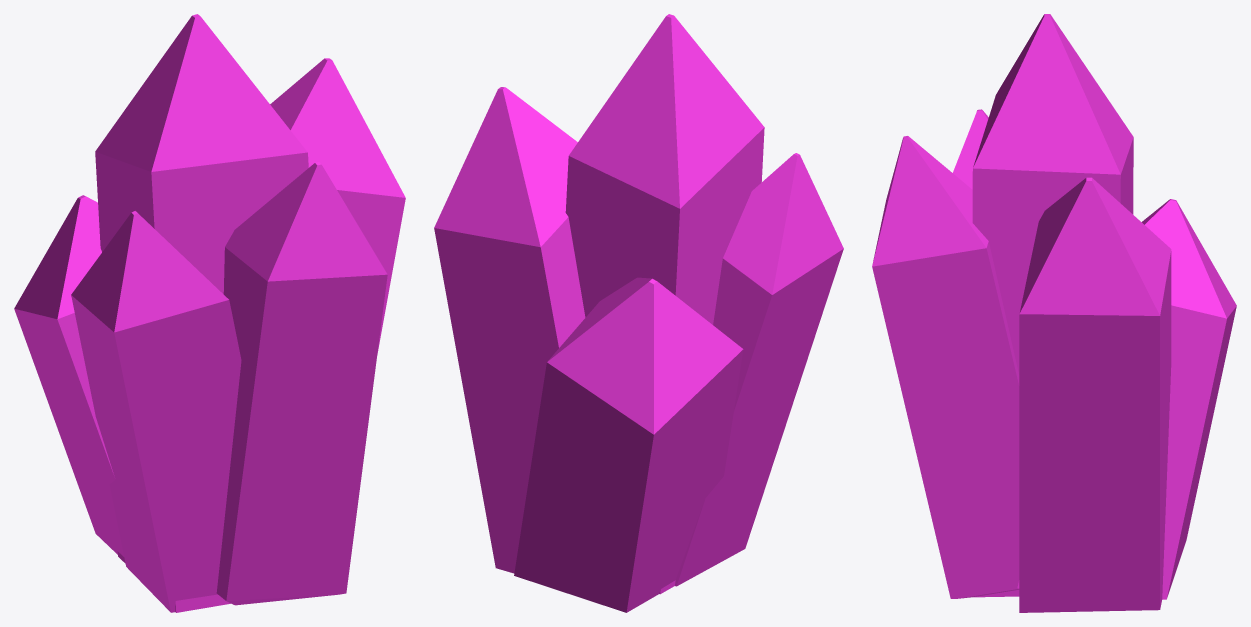
Rendered from Crystal.obj.
3 views of the same model, side by side, from view 1: azimuth 30°, elevation 25°; view 2: azimuth 150°, elevation 25°; view 3: azimuth 270°, elevation 25° (orthographic). The views are drawn at different scales.
Visible parts, largest first — view 1: Cube.003, Cube.002, Cube, Cube.004, Cube.001; view 2: Cube.004, Cube.001, Cube, Cube.002; view 3: Cube.001, Cube.003, Cube, Cube.004, Cube.002.
Part boxes in pixels (x1,y1,x2,y2): Cube.003: (216,162,387,605); Cube.002: (71,211,241,612); Cube: (95,14,308,612); Cube.004: (14,195,123,556); Cube.001: (270,58,405,354); Cube.004: (514,277,743,612); Cube.001: (434,87,585,573); Cube: (565,14,764,594); Cube.002: (675,153,843,586); Cube.001: (1019,177,1171,612); Cube.003: (872,136,1019,598); Cube: (972,14,1133,597); Cube.004: (1017,199,1236,599); Cube.002: (953,109,988,189).
Size of the model in its own units: 3.73 by 6.15 by 3.78.
